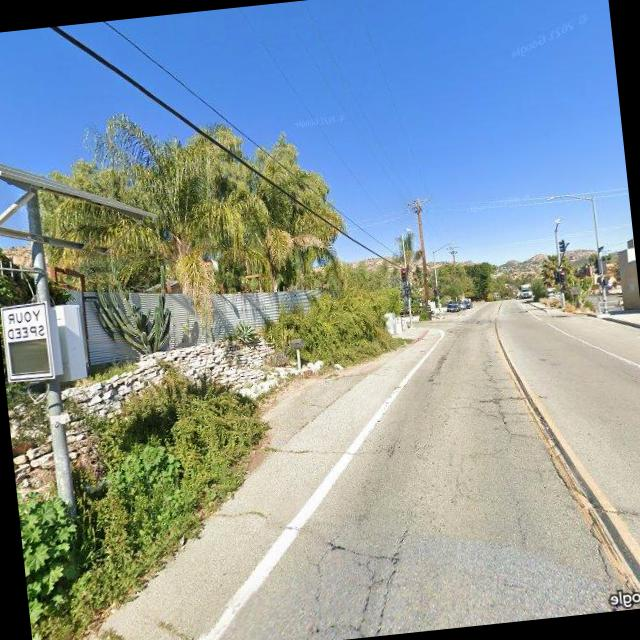crack: (287, 526, 423, 640), (461, 352, 540, 447)
